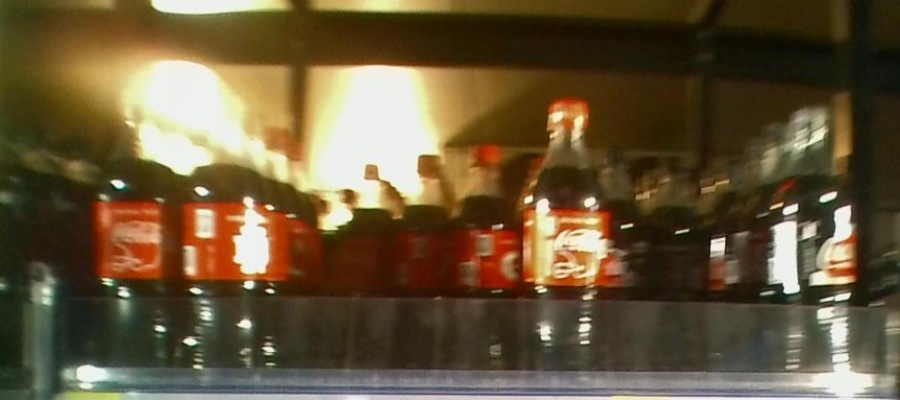bottle: (767, 104, 858, 384), (177, 107, 267, 379), (525, 97, 610, 376), (93, 104, 172, 377), (460, 145, 518, 374), (651, 148, 705, 372), (334, 154, 394, 325), (400, 144, 453, 321), (611, 146, 649, 373)
